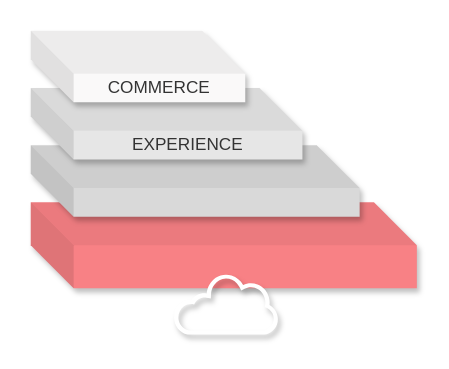
Some shapes in this 449 by 369 pixel diagram are drawn without their labels. Here are the shapes that lost their labels. From the top down, the centre of each, then its label:
point (196, 182): HEADLESS
point (224, 246): CLOUD PLATFORM AS A SERVICE
